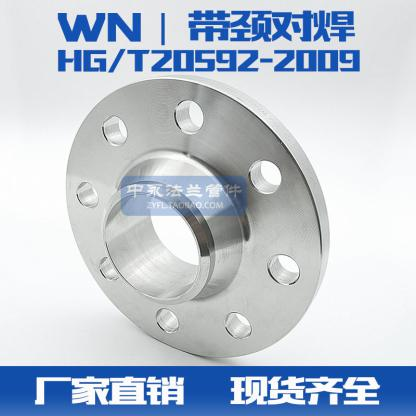FOD: (60, 66, 334, 362)
